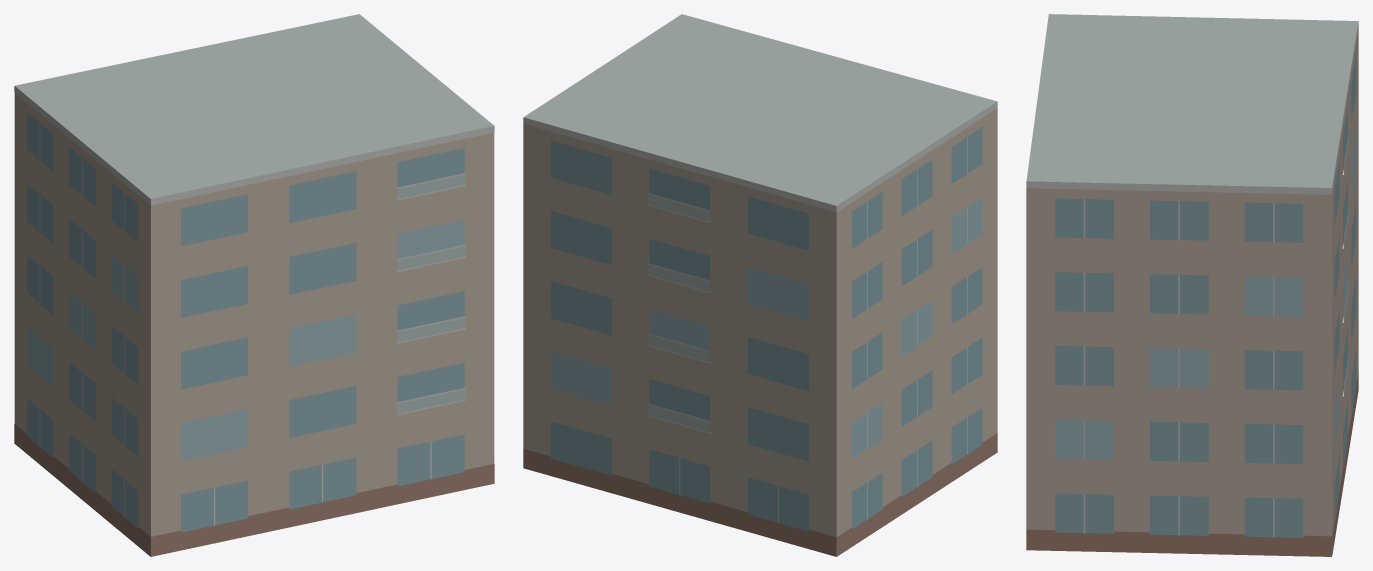
Rendered from survey-upis-32947997.glb.
The picture shows the model from 3 angles, left to right: view 1: azimuth 30°, elevation 25°; view 2: azimuth 150°, elevation 25°; view 3: azimuth 270°, elevation 25°; orthographic projection. The views are drawn at different scales.
Visible parts, largest first — view 1: survey-upis-32947997.tmp; view 2: survey-upis-32947997.tmp; view 3: survey-upis-32947997.tmp.
Boxes of the visible parts, x1,y1,x2,y2 form: survey-upis-32947997.tmp: (14, 14, 494, 556); survey-upis-32947997.tmp: (523, 14, 997, 556); survey-upis-32947997.tmp: (1026, 14, 1358, 556).
Bounding box in the file's own units: 13.37 × 13.2 × 10.78.
